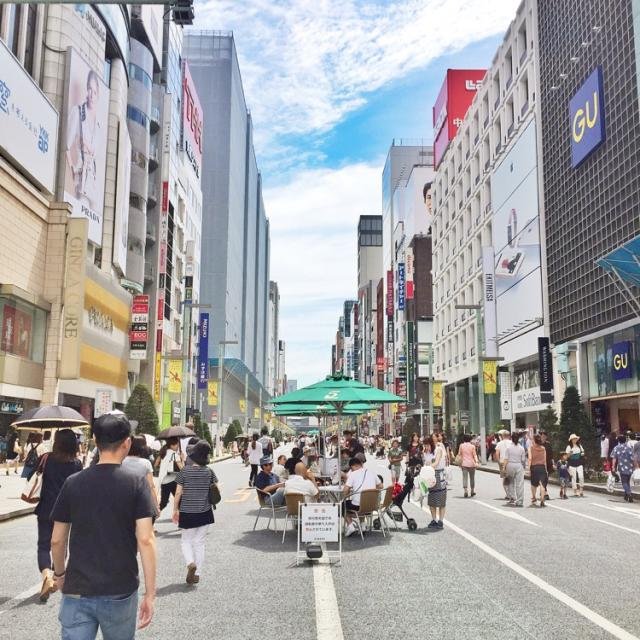body: (47, 408, 159, 639), (19, 427, 85, 602), (170, 438, 223, 586), (0, 576, 194, 608), (66, 68, 105, 203), (120, 434, 162, 522), (340, 457, 383, 538), (151, 436, 185, 533), (420, 436, 448, 531), (605, 434, 638, 504), (501, 432, 526, 508), (524, 432, 548, 508), (453, 431, 480, 498), (459, 494, 631, 504), (254, 455, 287, 506), (564, 432, 587, 498), (284, 461, 320, 503), (357, 472, 385, 526), (494, 430, 514, 501), (326, 454, 368, 486), (19, 432, 46, 478), (551, 450, 575, 499), (539, 431, 555, 501), (246, 432, 265, 489), (4, 422, 23, 476), (341, 429, 366, 462), (607, 431, 621, 485), (404, 432, 425, 468), (180, 421, 196, 466), (387, 440, 402, 486), (283, 447, 304, 479), (430, 432, 448, 467), (387, 522, 430, 536), (421, 182, 432, 236), (78, 435, 98, 464), (36, 430, 56, 458), (328, 432, 344, 467), (258, 425, 274, 457), (437, 432, 451, 468), (314, 430, 329, 462), (137, 433, 156, 458), (272, 454, 288, 483), (157, 526, 187, 539), (484, 431, 496, 462), (22, 430, 34, 457), (300, 444, 312, 470), (238, 437, 249, 463), (340, 449, 352, 472), (375, 434, 402, 444), (626, 432, 640, 451), (296, 431, 310, 448), (229, 437, 238, 460), (519, 431, 531, 447), (468, 434, 481, 447), (374, 443, 383, 461), (633, 438, 638, 469), (491, 433, 501, 446), (597, 430, 607, 442), (368, 435, 374, 455), (358, 434, 366, 448), (282, 434, 288, 446), (309, 432, 315, 443), (624, 428, 634, 433), (476, 431, 481, 441), (287, 435, 292, 444)
